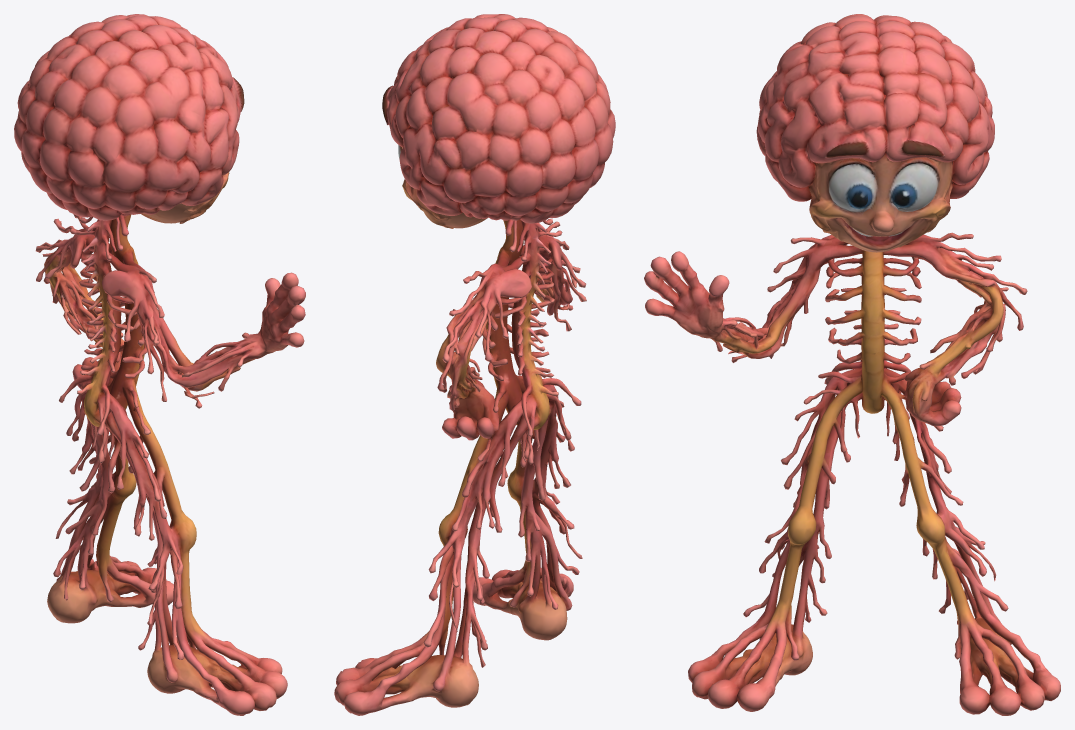
File: NERVEY_THE_NERVOUS_SYSTEM.glb
3 renders of one model, left to right at view 1: azimuth 30°, elevation 25°; view 2: azimuth 150°, elevation 25°; view 3: azimuth 270°, elevation 25°, orthographic. The views are drawn at different scales.
Visible parts, largest first — view 1: tripo_node_5f689a80-d8c0-4c6f-a59b-30004eaa20c4; view 2: tripo_node_5f689a80-d8c0-4c6f-a59b-30004eaa20c4; view 3: tripo_node_5f689a80-d8c0-4c6f-a59b-30004eaa20c4.
Part boxes in pixels (left/top/right/bottom): tripo_node_5f689a80-d8c0-4c6f-a59b-30004eaa20c4: left=14, top=14, right=305, bottom=715; tripo_node_5f689a80-d8c0-4c6f-a59b-30004eaa20c4: left=334, top=14, right=615, bottom=715; tripo_node_5f689a80-d8c0-4c6f-a59b-30004eaa20c4: left=644, top=14, right=1060, bottom=715.
Bounding box in the file's own units: 0.3281 × 1 × 0.5812.
1 material, 1 textured.
